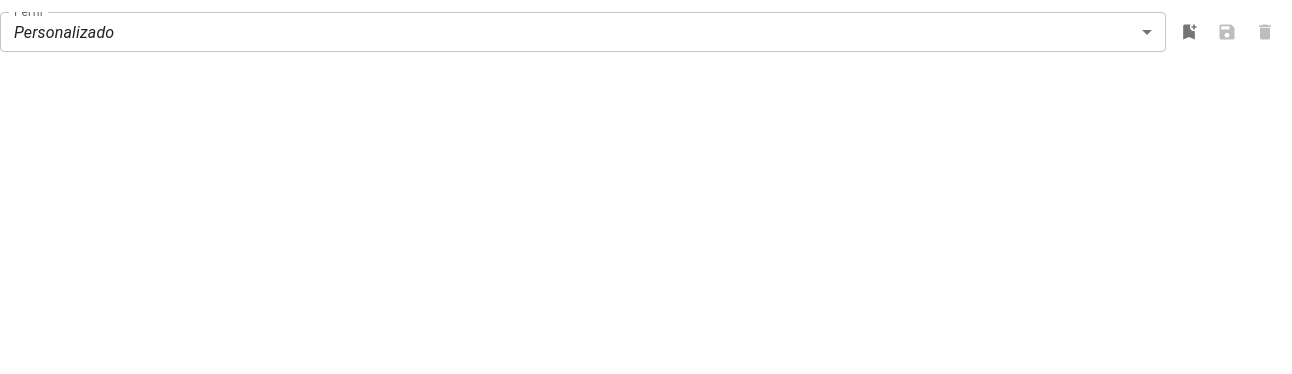
CareProfilesPanel › shows 'Sin perfiles guardados' when there are none
Press the mouse on the dropdown at [64, 32], box [14, 22, 114, 42]
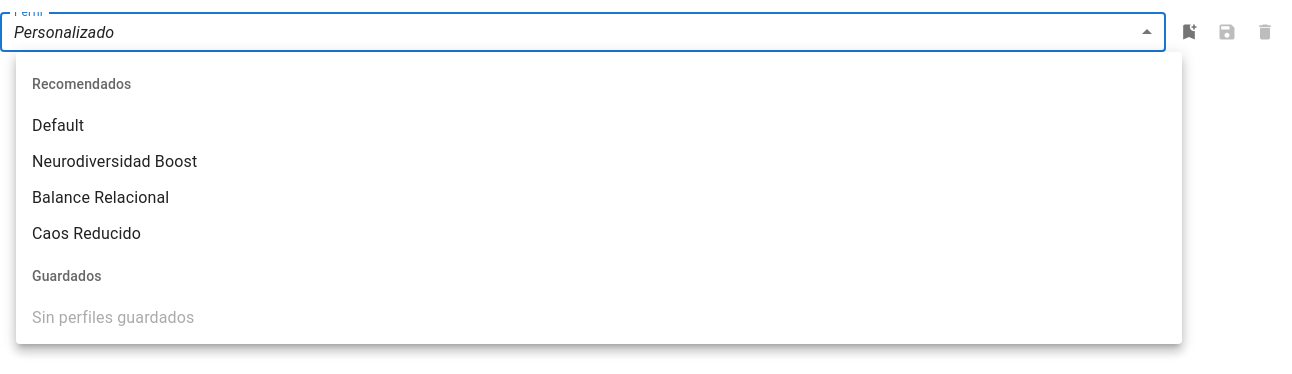
Check: the option "Sin perfiles guardados" is shown, box [32, 308, 194, 327]
